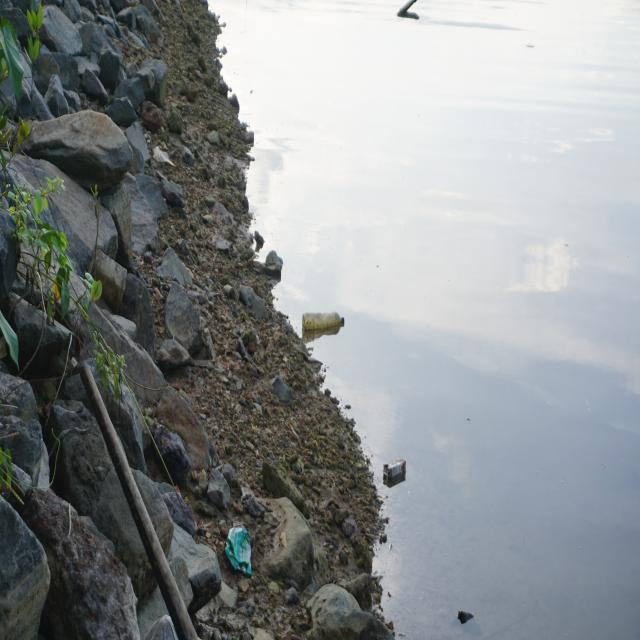Botol Plastik: (303, 301, 351, 344)
